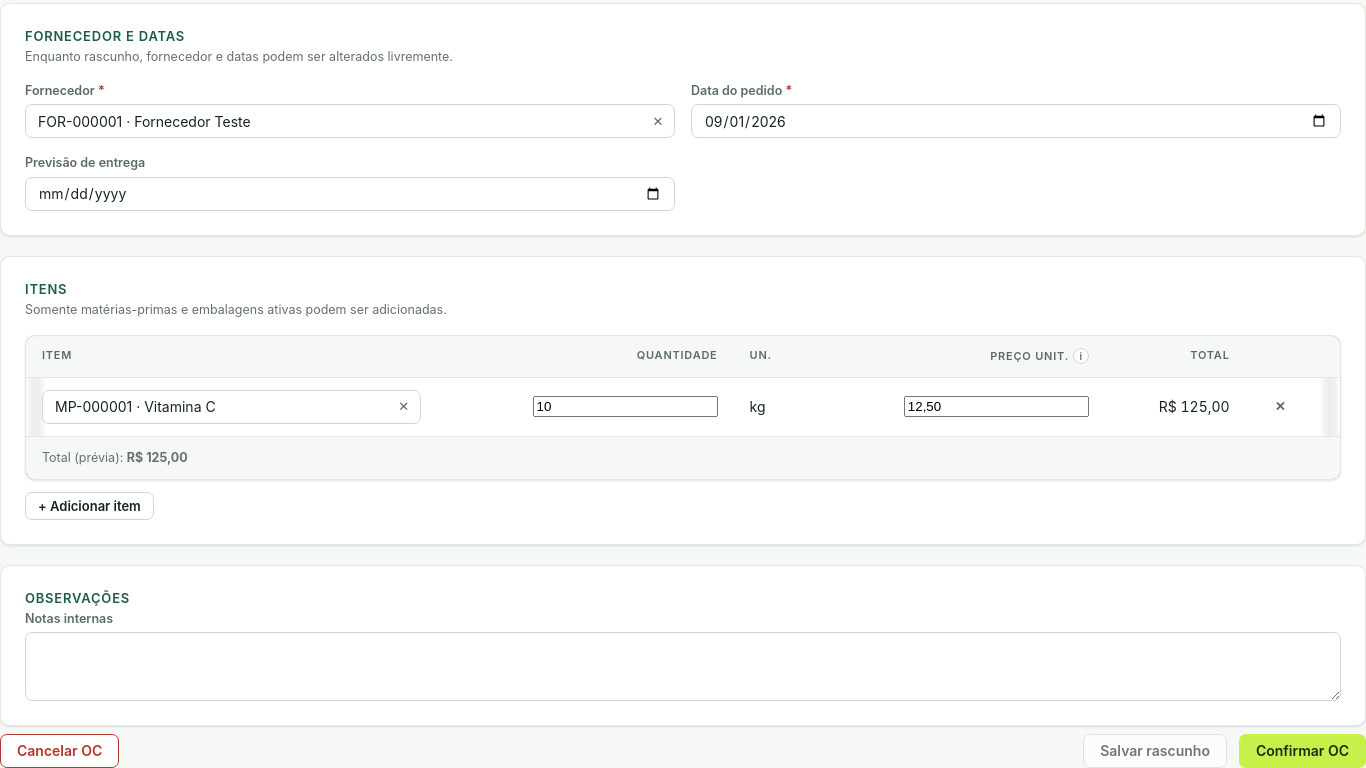
Test: sem alteração pendente › confirma direto: uma confirmação e nenhuma gravação
This screenshot has width=1366, height=768.
(page scrolled)
Check: the field named "Quantidade de MP-000001" holds "10", box [533,396,718,417]
Check: the button "Salvar rascunho" is disabled, box [1083,734,1227,767]
Click the button "Confirmar OC" at coordinates (1302, 751), box [1239,734,1365,767]
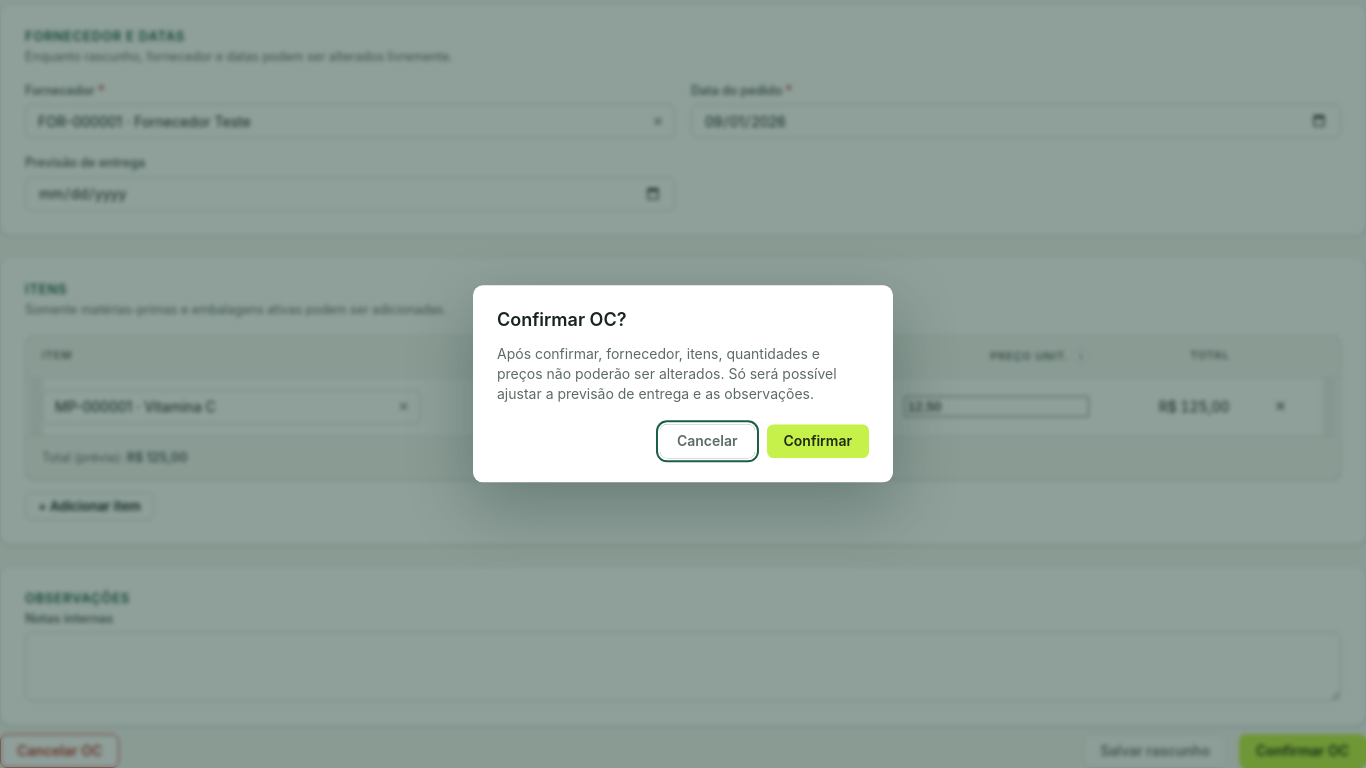
Click the button "Confirmar" at coordinates (818, 442), box [766,425,869,459]
(page scrolled)
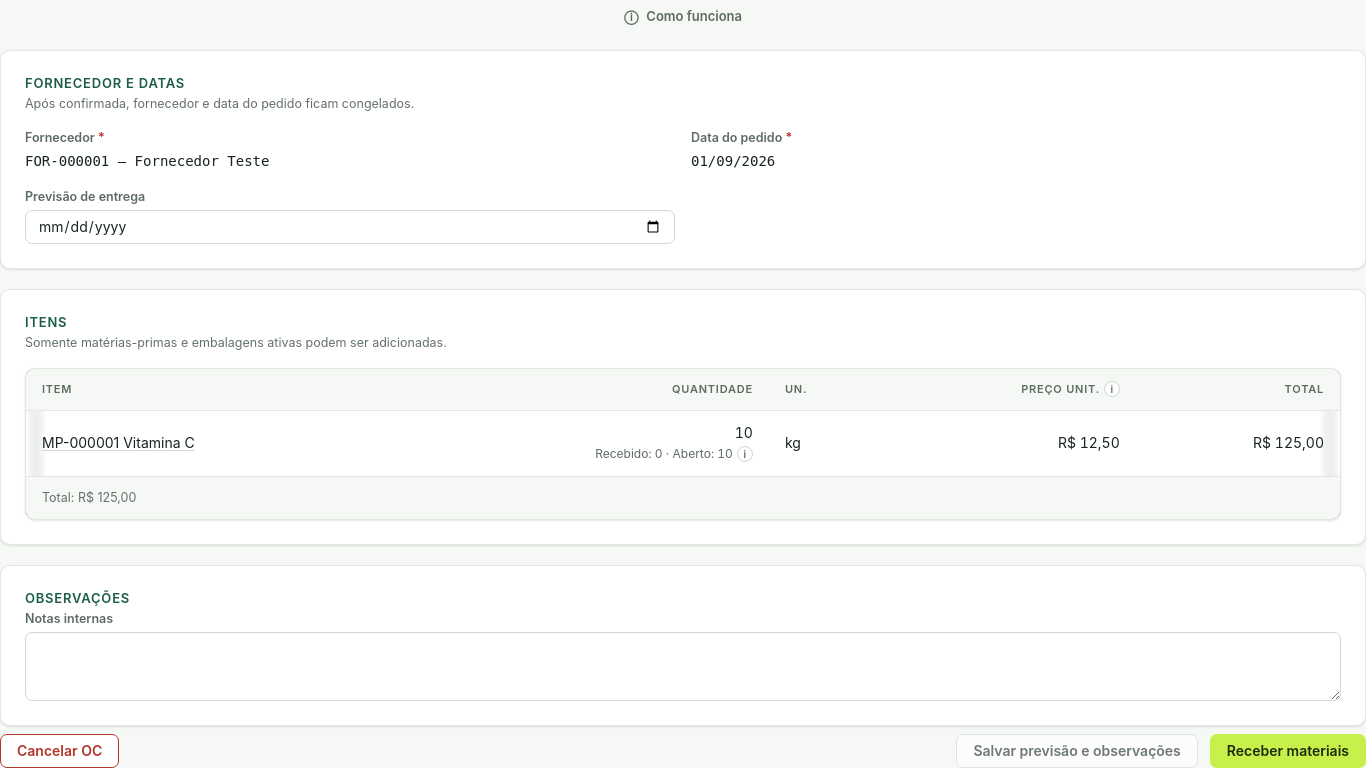
Check: the button "Salvar previsão e observações" is shown, box [956,734,1198,767]
